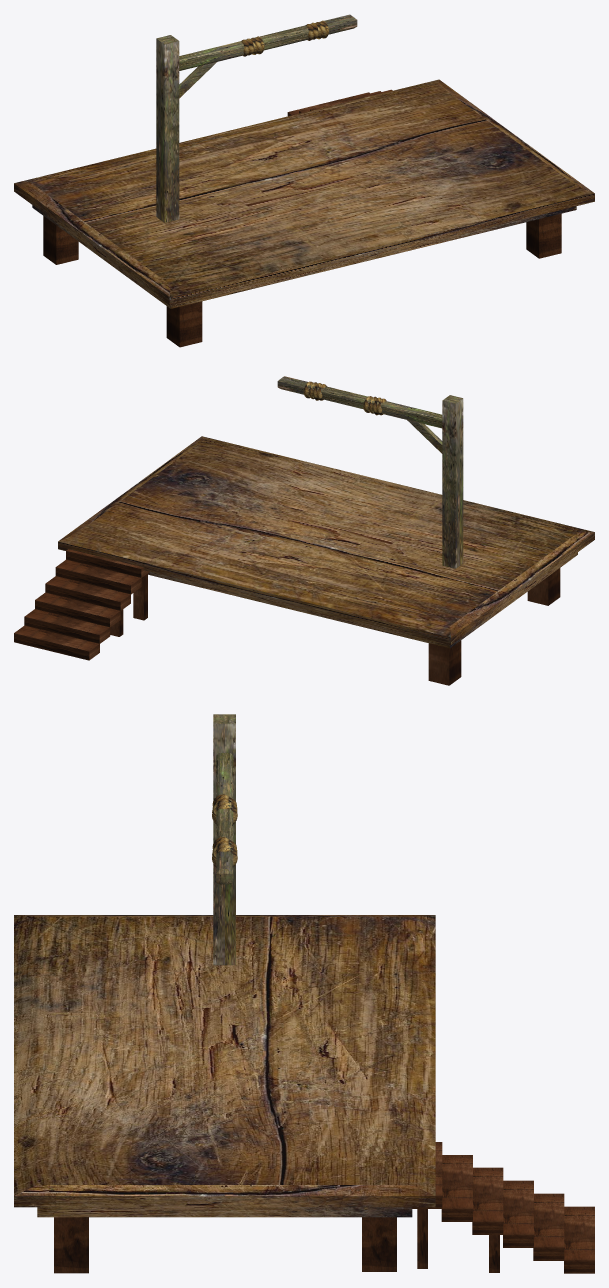
File: HangStation.fbx
3 renders of one model, top to bottom at view 1: azimuth 30°, elevation 25°; view 2: azimuth 150°, elevation 25°; view 3: azimuth 270°, elevation 25°, orthographic. The views are drawn at different scales.
Parts seen in each view (by area): view 1: pCube1, pCube2, pCube3, pCube8, pCube7, pCube5; view 2: pCube1, pCube2, pCube3, pCube14, pCube10, pCube13, pCube12, pCube11, pCube5, pCube9, pCube8, pCube16; view 3: pCube1, pCube2, pCube11, pCube13, pCube12, pCube14, pCube10, pCube7, pCube3, pCube6.
Part boxes in pixels (x1,y1,x2,y2): pCube1: (14, 79, 594, 308); pCube2: (156, 35, 179, 222); pCube3: (179, 14, 357, 70); pCube8: (166, 301, 202, 347); pCube7: (526, 213, 561, 258); pCube5: (43, 216, 78, 264); pCube1: (58, 436, 594, 648); pCube2: (442, 395, 463, 568); pCube3: (277, 376, 442, 428); pCube14: (14, 625, 99, 660); pCube10: (55, 559, 141, 594); pCube13: (24, 609, 110, 643); pCube12: (35, 592, 120, 627); pCube11: (45, 576, 130, 610); pCube5: (428, 640, 461, 685); pCube9: (66, 549, 149, 577); pCube8: (527, 568, 560, 605); pCube16: (133, 573, 147, 620); pCube1: (14, 915, 435, 1217); pCube2: (213, 714, 235, 965); pCube11: (472, 1167, 503, 1234); pCube13: (533, 1193, 564, 1260); pCube12: (503, 1180, 533, 1247); pCube14: (564, 1206, 594, 1273); pCube10: (441, 1155, 472, 1221); pCube7: (54, 1217, 88, 1273); pCube3: (216, 753, 233, 884); pCube6: (362, 1217, 396, 1271).
Bounding box in the file's own units: 10.57 × 5.89 × 9.24.
4 materials, 4 textured.
